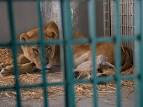lion: (3, 22, 134, 83)
